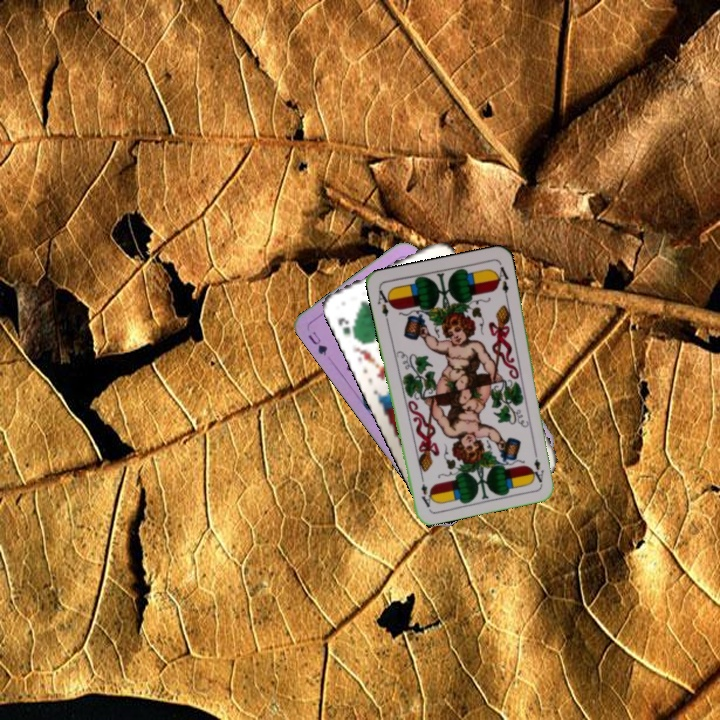EA: (373, 285, 394, 319), (530, 445, 547, 485)
GK: (333, 313, 360, 341)
GU: (304, 327, 330, 358)
